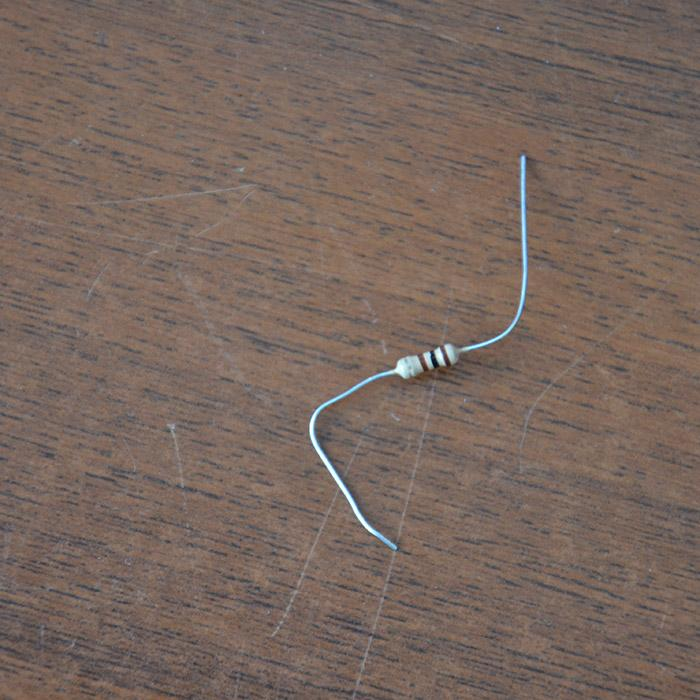resistor: (397, 342, 461, 379)
